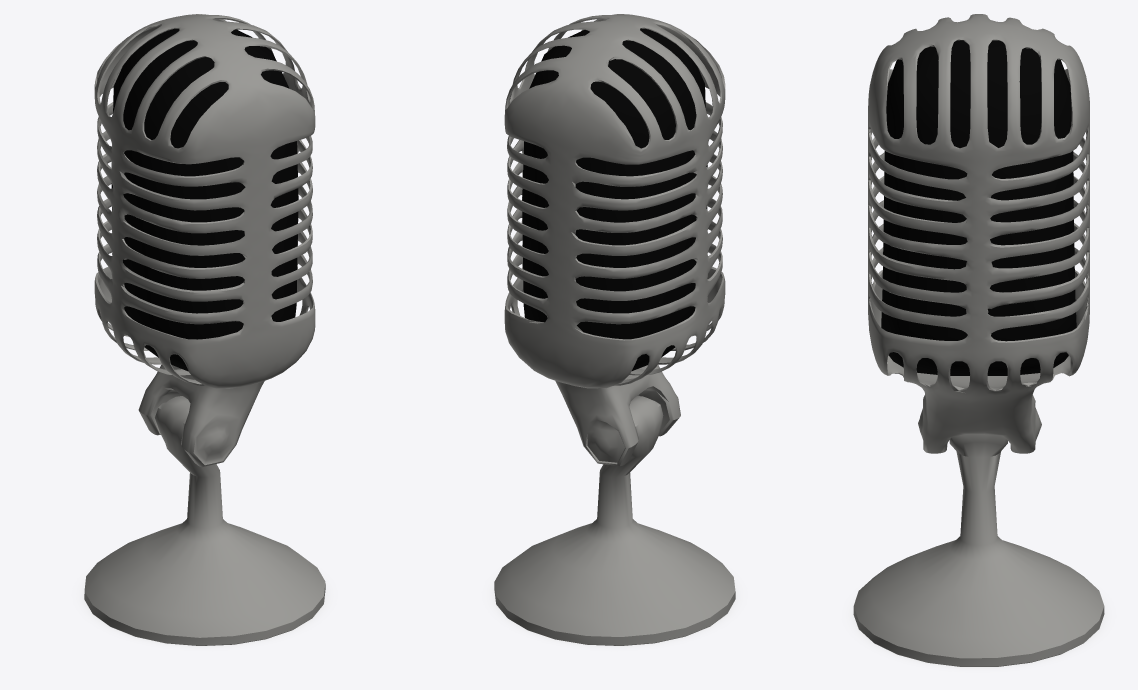
Rendered from microphone.glb.
The picture shows the model from 3 angles, left to right: view 1: azimuth 30°, elevation 25°; view 2: azimuth 150°, elevation 25°; view 3: azimuth 270°, elevation 25°; orthographic projection. The views are drawn at different scales.
Parts seen in each view (by area): view 1: Head 10k, Base .5k, Inner Microphone .1k, shadow; view 2: Head 10k, Base .5k, Inner Microphone .1k, shadow; view 3: Head 10k, Inner Microphone .1k, Base .5k, shadow.
Part boxes in pixels (x1,y1,x2,y2): Head 10k: (94,14,315,467); Base .5k: (84,396,325,645); Inner Microphone .1k: (111,28,298,371); shadow: (80,581,330,647); Head 10k: (504,14,725,466); Base .5k: (494,396,735,645); Inner Microphone .1k: (522,28,707,370); shadow: (489,581,739,647); Head 10k: (868,14,1089,453); Inner Microphone .1k: (881,40,1076,375); Base .5k: (853,434,1104,666); shadow: (849,597,1108,669).
Bounding box in the file's own units: 0.2987 × 0.6693 × 0.2987.
3 materials, 1 textured.
